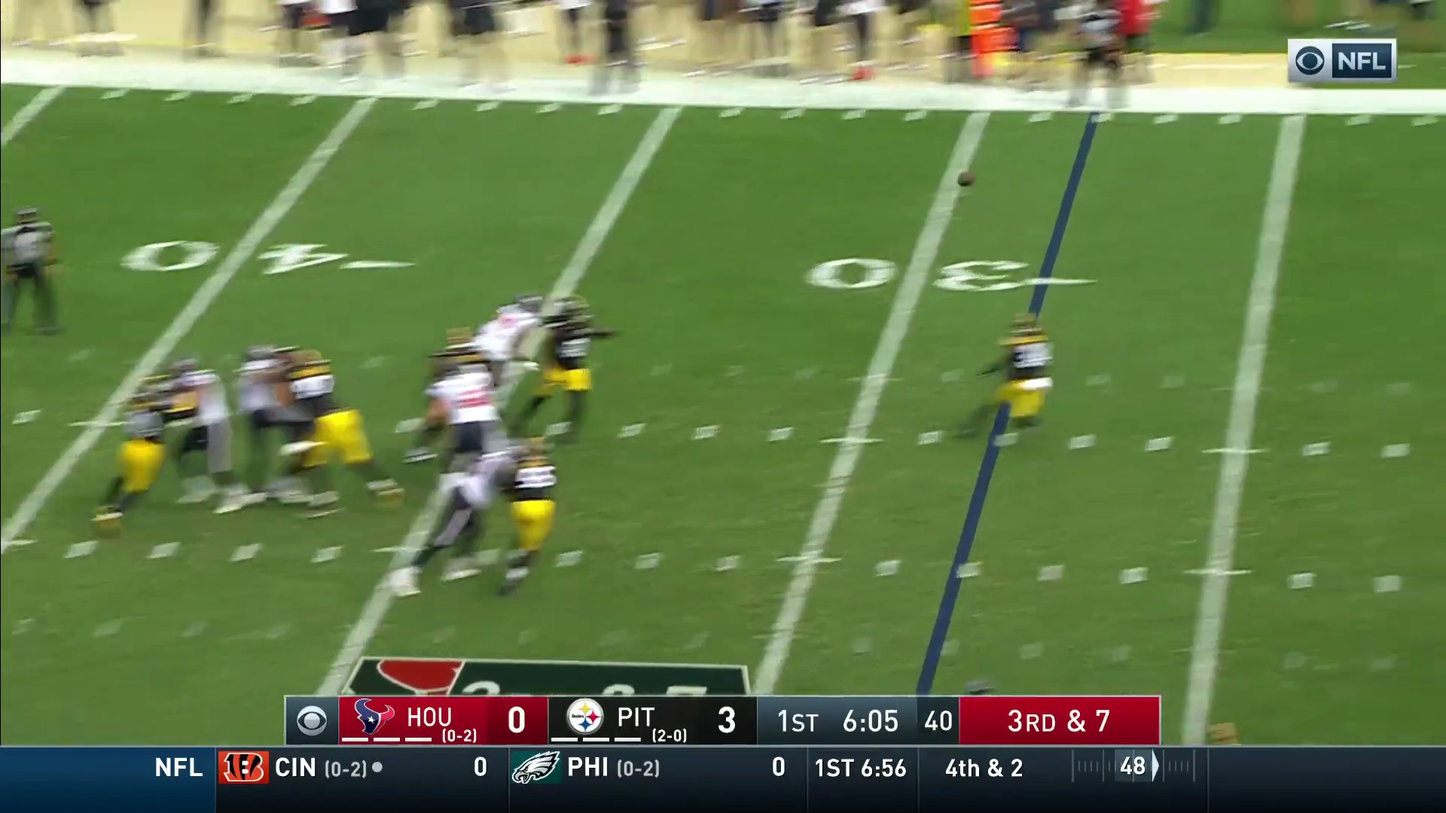Player: (422, 366, 505, 531), (94, 398, 169, 525), (273, 349, 334, 476), (502, 454, 556, 591), (170, 362, 231, 477), (996, 311, 1052, 436), (3, 208, 59, 333), (424, 326, 490, 427), (237, 347, 286, 481), (476, 299, 541, 389), (543, 296, 594, 392)
